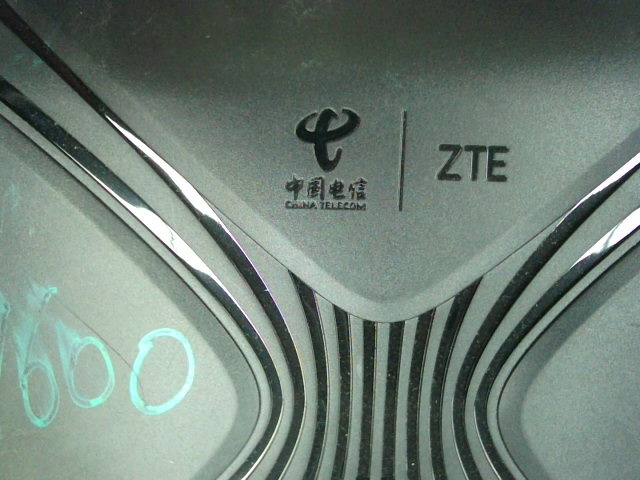AX_ZTEChinaTelecom: (271, 105, 529, 210)
